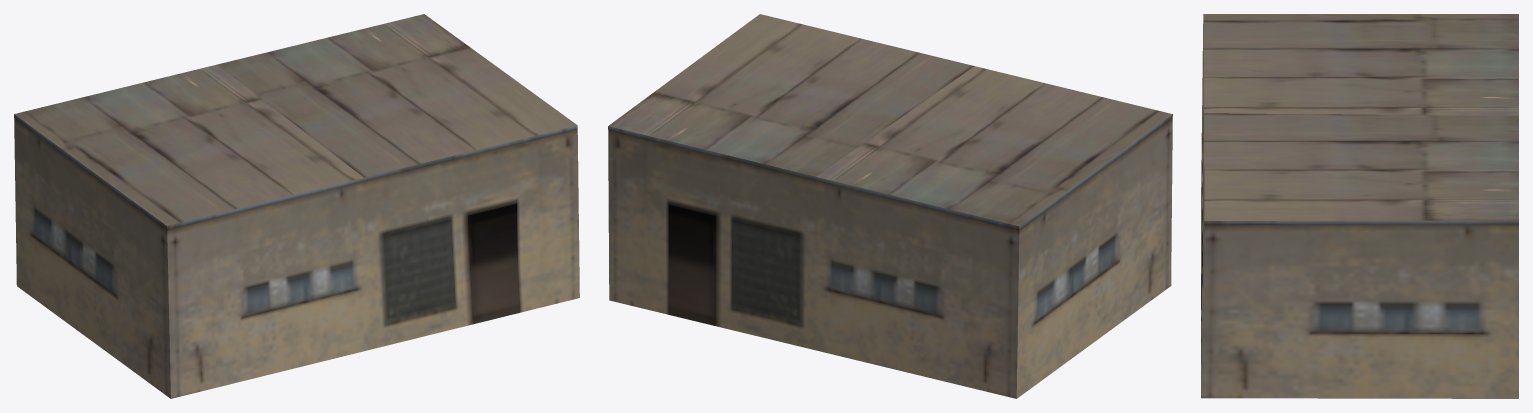
The model's file is barrack3.fbx.
The picture shows the model from 3 angles, left to right: view 1: azimuth 30°, elevation 25°; view 2: azimuth 150°, elevation 25°; view 3: azimuth 270°, elevation 25°; orthographic projection. The views are drawn at different scales.
Visible parts, largest first — view 1: barrack03; view 2: barrack03; view 3: barrack03.
Part boxes in pixels (bbox=[...]): barrack03: bbox=[14, 14, 579, 398]; barrack03: bbox=[608, 14, 1172, 398]; barrack03: bbox=[1201, 14, 1518, 398].
Bounding box in the file's own units: 573 × 231 × 371.
1 material, 1 textured.
